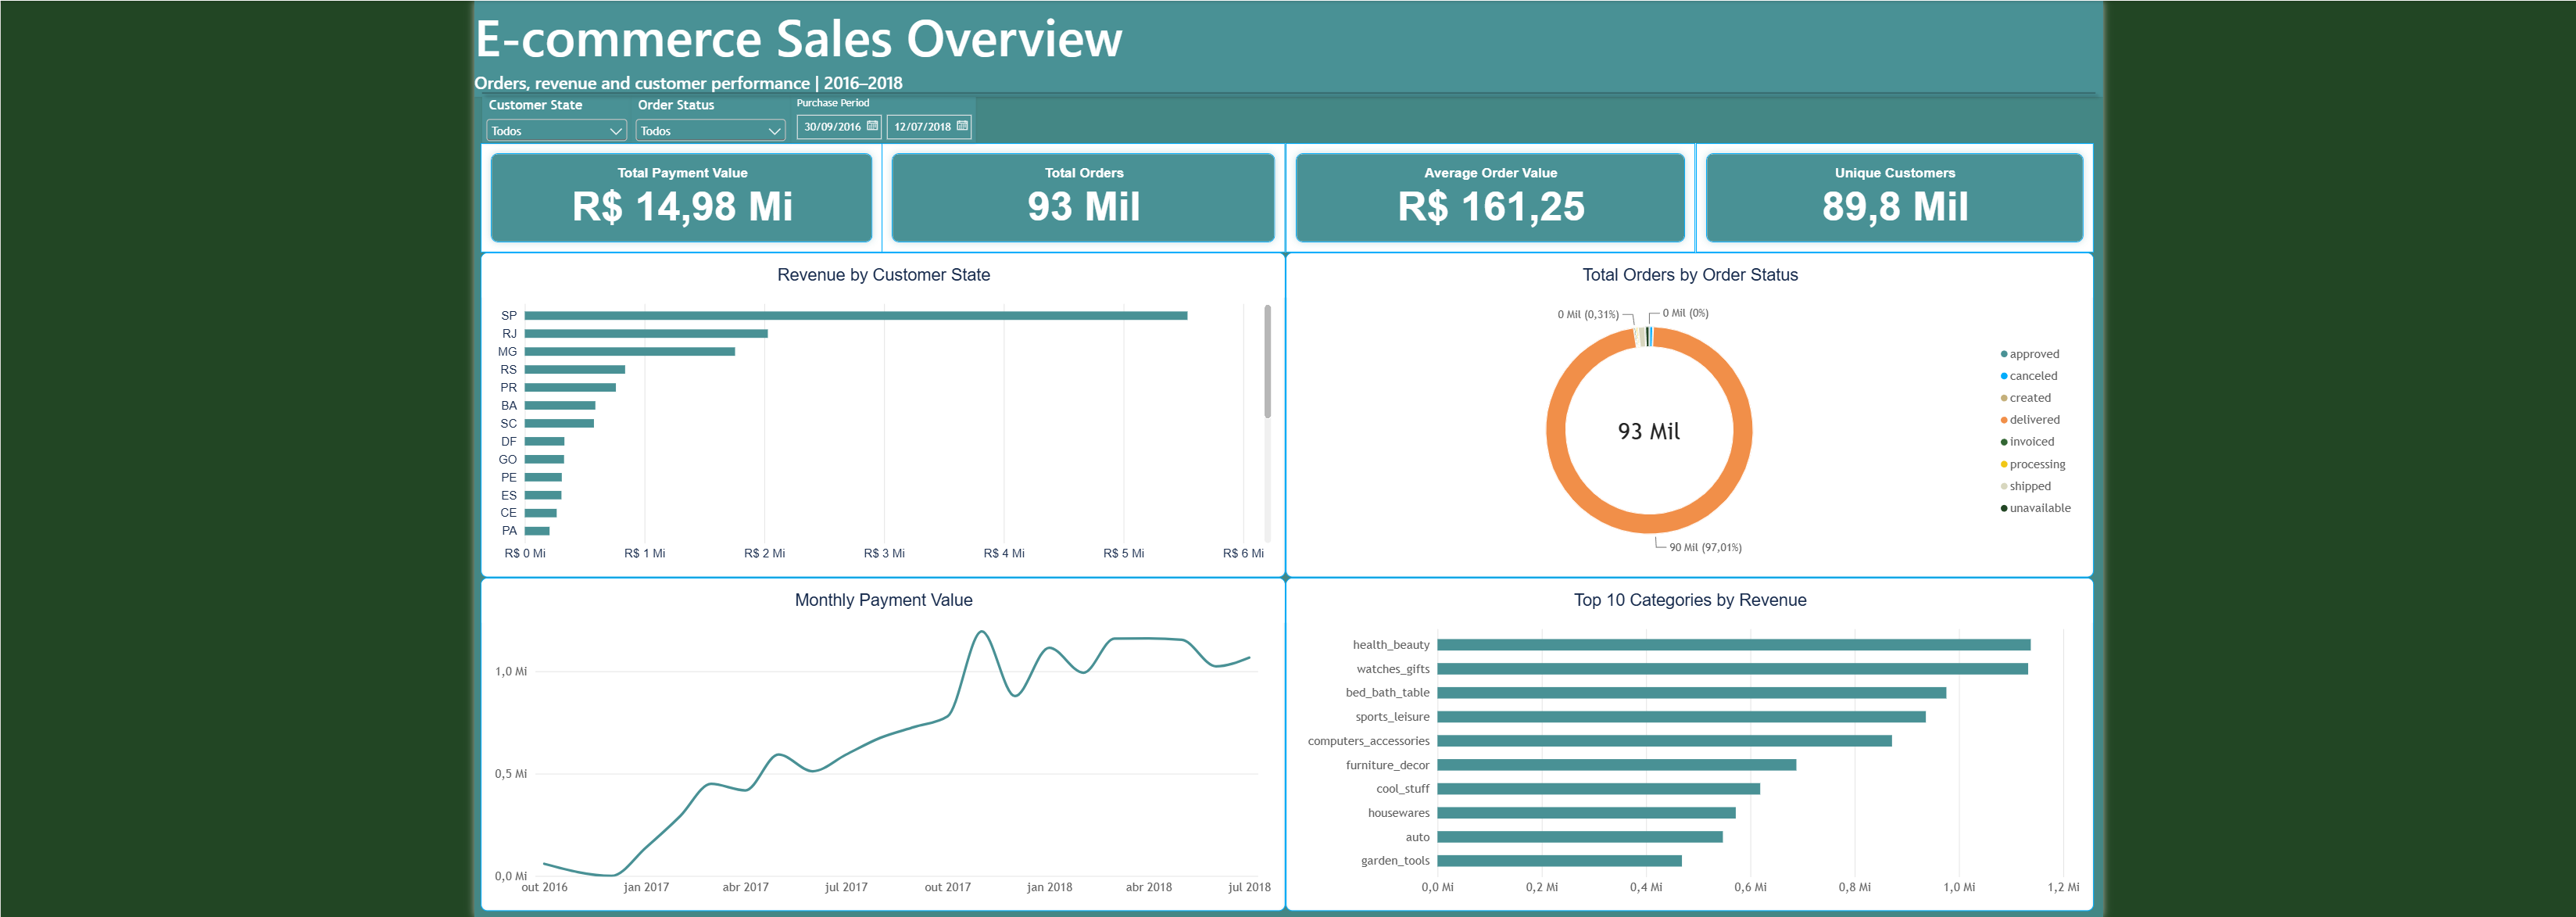

This screenshot's page, from the dashboard's own definition file:
{"tool":"powerbi","page":{"name":"E-commerce Sales Overview","canvas":[1920,1080],"ordinal":0},"visuals":[{"type":"lineChart","title":"Monthly Payment Value ","fields":{"Category":["Orders.purchase_month"],"Y":["Orders.Total Payment Value"]},"box":[7.4,680.1,949.1,393.5],"z":0},{"type":"clusteredBarChart","title":"Revenue by Customer State","fields":{"Category":["Orders.customer_state"],"Y":["Orders.Total Payment Value"]},"box":[7.4,296.7,949.1,383.3],"z":1000},{"type":"cardVisual","fields":{"Data":["Orders.Total Payment Value"]},"box":[7.4,167.7,474.6,129],"z":2000},{"type":"cardVisual","fields":{"Data":["Orders.Average Order Value"]},"box":[956.5,167.7,483.8,129],"z":3000},{"type":"cardVisual","fields":{"Data":["Orders.Total Orders"]},"box":[480.1,167.7,476.4,129],"z":4000},{"type":"cardVisual","fields":{"Data":["Orders.Unique Customers"]},"box":[1440.3,167.7,469,129],"z":5000},{"type":"donutChart","title":"Total Orders by Order Status","fields":{"Series":["Orders.order_status"],"Y":["Orders.Total Orders"]},"box":[956.5,296.7,952.8,383.3],"z":6000},{"type":"barChart","title":"Top 10 Categories by Revenue","fields":{"Category":["Product Sales.product_category"],"Y":["Product Sales.Product Revenue"]},"box":[956.5,680.1,952.8,393.5],"z":7000},{"type":"textbox","title":"E-commerce Sales Overview","box":[0,0,1920.4,113.3],"z":8000},{"type":"slicer","fields":{"Values":["Orders.purchase_month"]},"box":[372.3,113.3,219.3,54.4],"z":9000},{"type":"slicer","fields":{"Values":["Orders.customer_state"]},"box":[9.2,113.3,176,54.4],"z":10000},{"type":"slicer","fields":{"Values":["Orders.order_status"]},"box":[185.2,113.3,187.1,54.4],"z":11000},{"type":"shape","box":[0,84.8,1920.4,47.9],"z":12000}]}

Visuals, with their boxes on the page's 1920x1080 design canvas (x1, y1, x2, y2). These are canvas units, not pixel positions in the 2576x917 screenshot, which may show the page scaled, cropped or inside an application window:
"Monthly Payment Value " lineChart: <region>7, 680, 956, 1074</region>
"Revenue by Customer State" clusteredBarChart: <region>7, 297, 956, 680</region>
cardVisual - Orders.Total Payment Value: <region>7, 168, 482, 297</region>
cardVisual - Orders.Average Order Value: <region>956, 168, 1440, 297</region>
cardVisual - Orders.Total Orders: <region>480, 168, 956, 297</region>
cardVisual - Orders.Unique Customers: <region>1440, 168, 1909, 297</region>
"Total Orders by Order Status" donutChart: <region>956, 297, 1909, 680</region>
"Top 10 Categories by Revenue" barChart: <region>956, 680, 1909, 1074</region>
"E-commerce Sales Overview" textbox: <region>0, 0, 1920, 113</region>
slicer - Orders.purchase_month: <region>372, 113, 592, 168</region>
slicer - Orders.customer_state: <region>9, 113, 185, 168</region>
slicer - Orders.order_status: <region>185, 113, 372, 168</region>
shape: <region>0, 85, 1920, 133</region>
